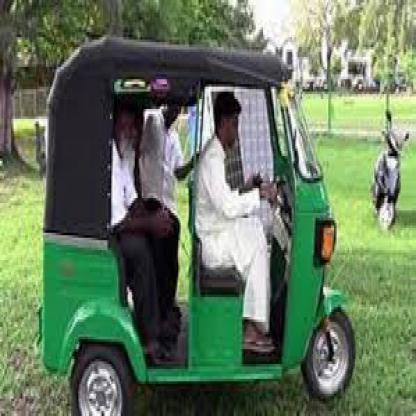bike: (372, 104, 409, 230)
tuk: (43, 35, 356, 411)
